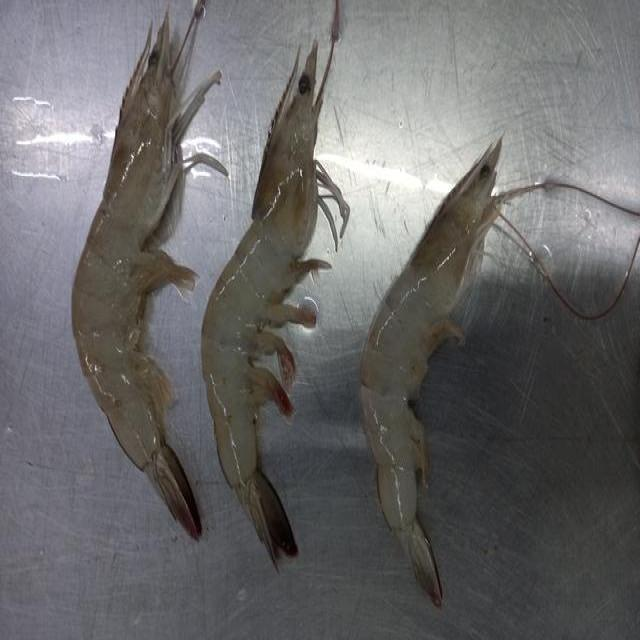shrimp: (202, 3, 350, 564), (72, 2, 221, 538), (361, 138, 528, 605)
